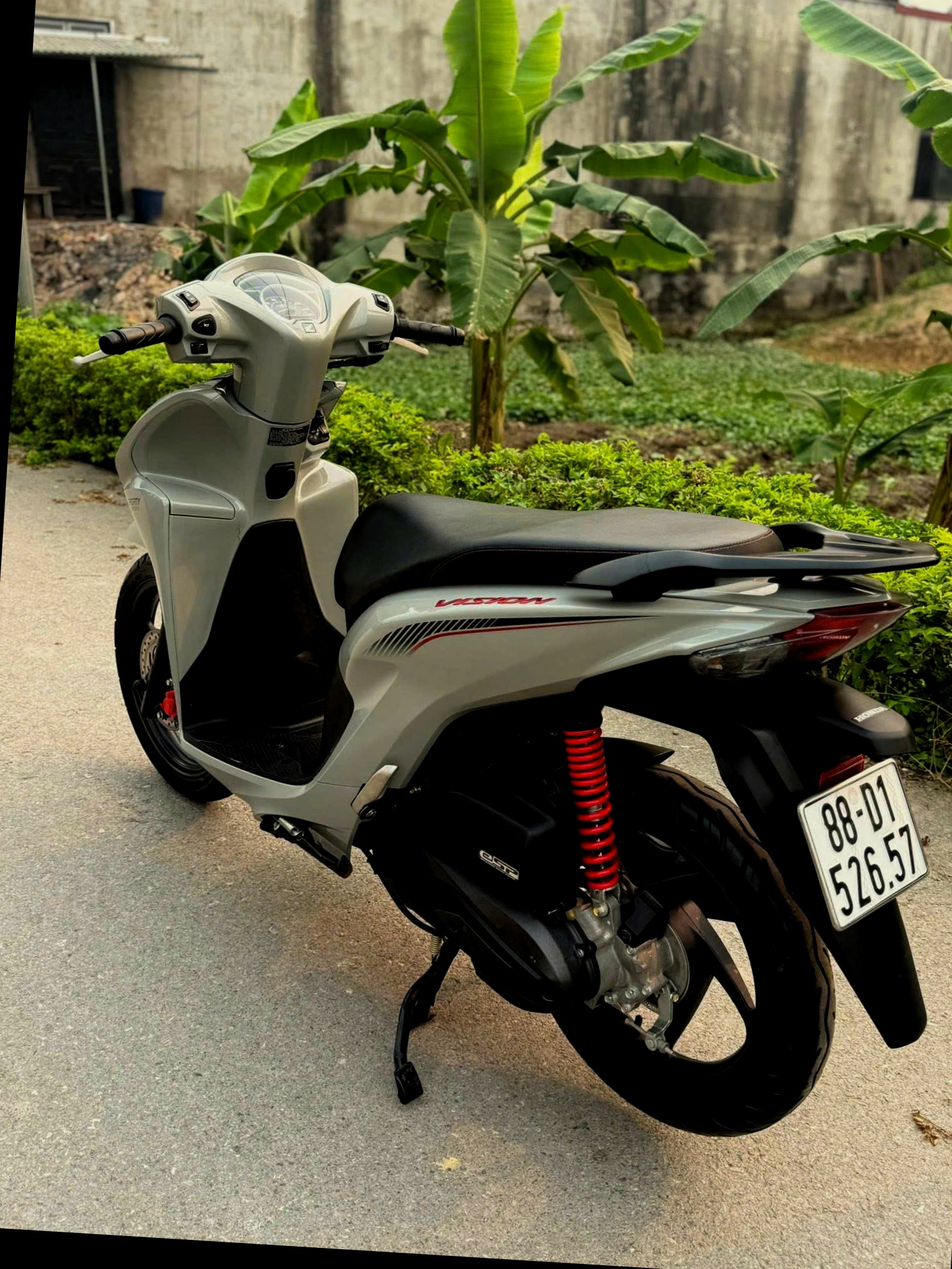Bien-so: (789, 756, 943, 940)
